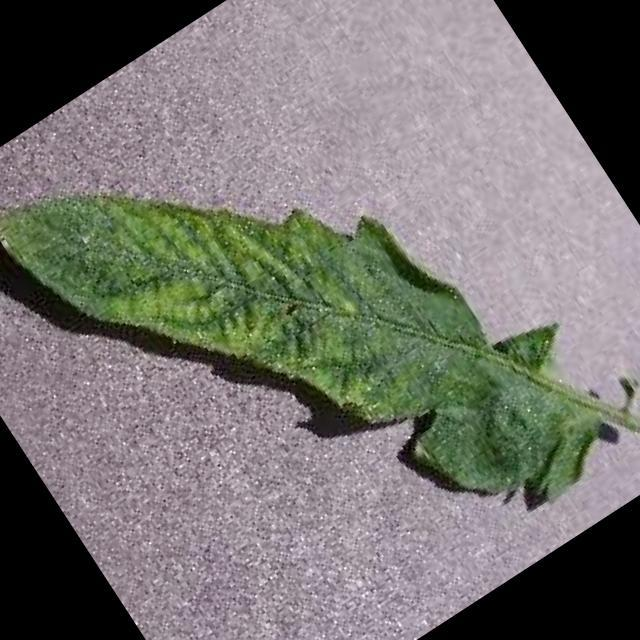Tomato mosaic virus leaf: (0, 0, 636, 640)
